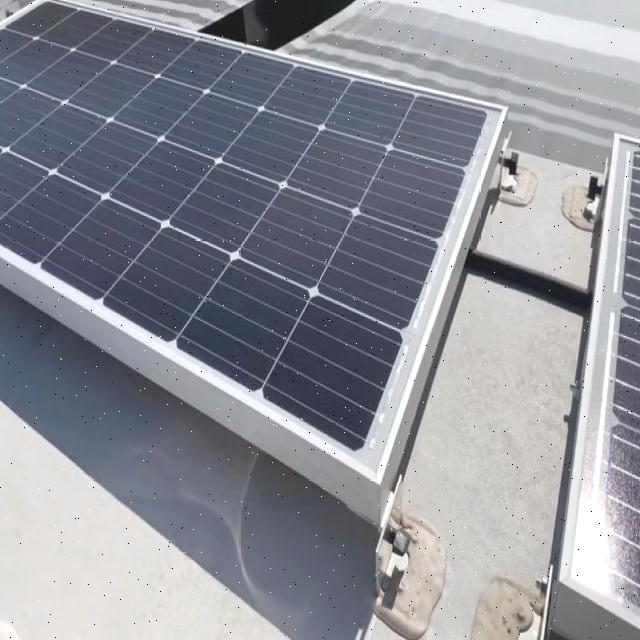Normal Solar Panel: (0, 0, 509, 486), (561, 139, 640, 630)
